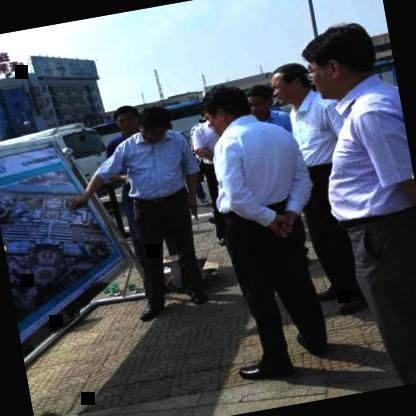head: (304, 18, 382, 100), (200, 80, 251, 135), (268, 58, 316, 108), (134, 101, 176, 143), (242, 80, 279, 123), (110, 100, 144, 137)
